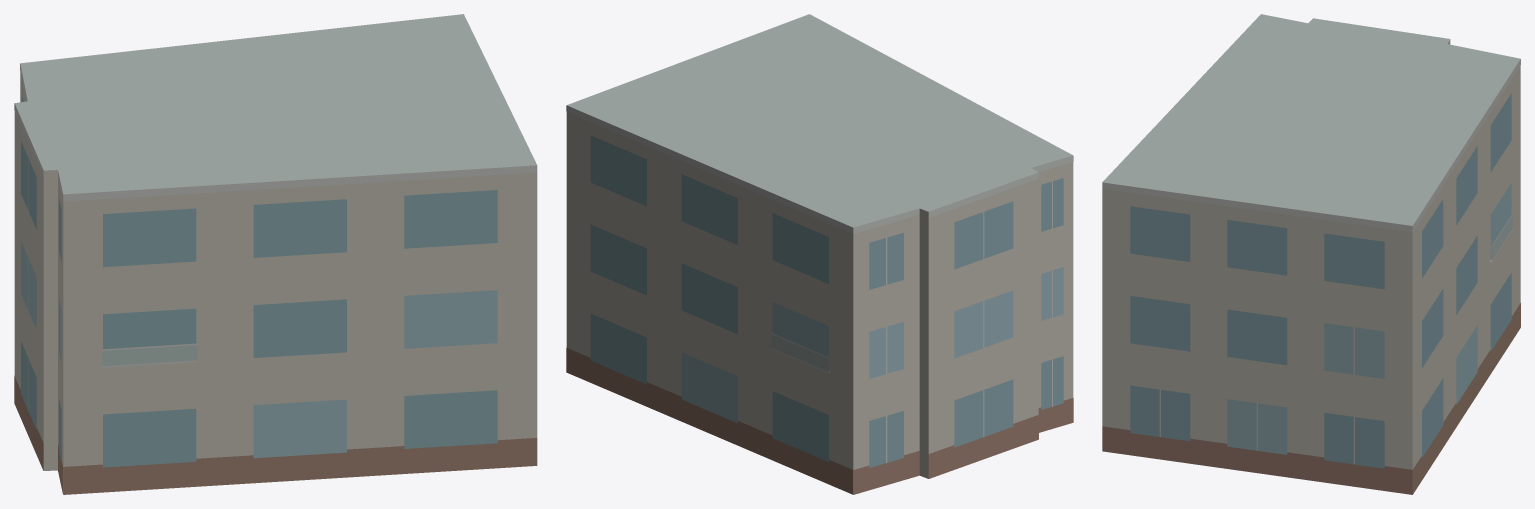
File: survey-upis-32826332.glb
The picture shows the model from 3 angles, left to right: view 1: azimuth 30°, elevation 25°; view 2: azimuth 150°, elevation 25°; view 3: azimuth 270°, elevation 25°; orthographic projection. The views are drawn at different scales.
Visible parts, largest first — view 1: survey-upis-32826332.tmp; view 2: survey-upis-32826332.tmp; view 3: survey-upis-32826332.tmp.
Boxes of the visible parts, x1,y1,x2,y2 form: survey-upis-32826332.tmp: (14,14,537,494); survey-upis-32826332.tmp: (566,14,1073,494); survey-upis-32826332.tmp: (1102,14,1520,494).
Size of the model in its own units: 17.42 by 10.3 by 14.54.
